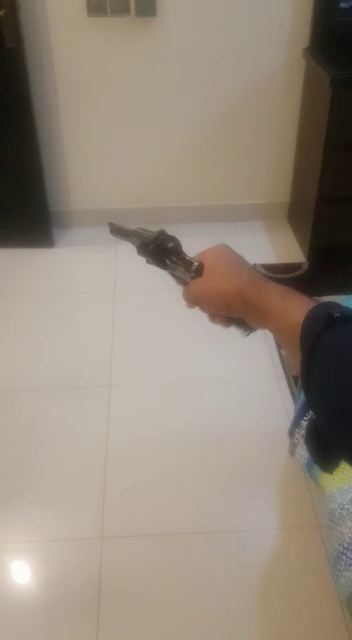handgun: (90, 192, 264, 378)
